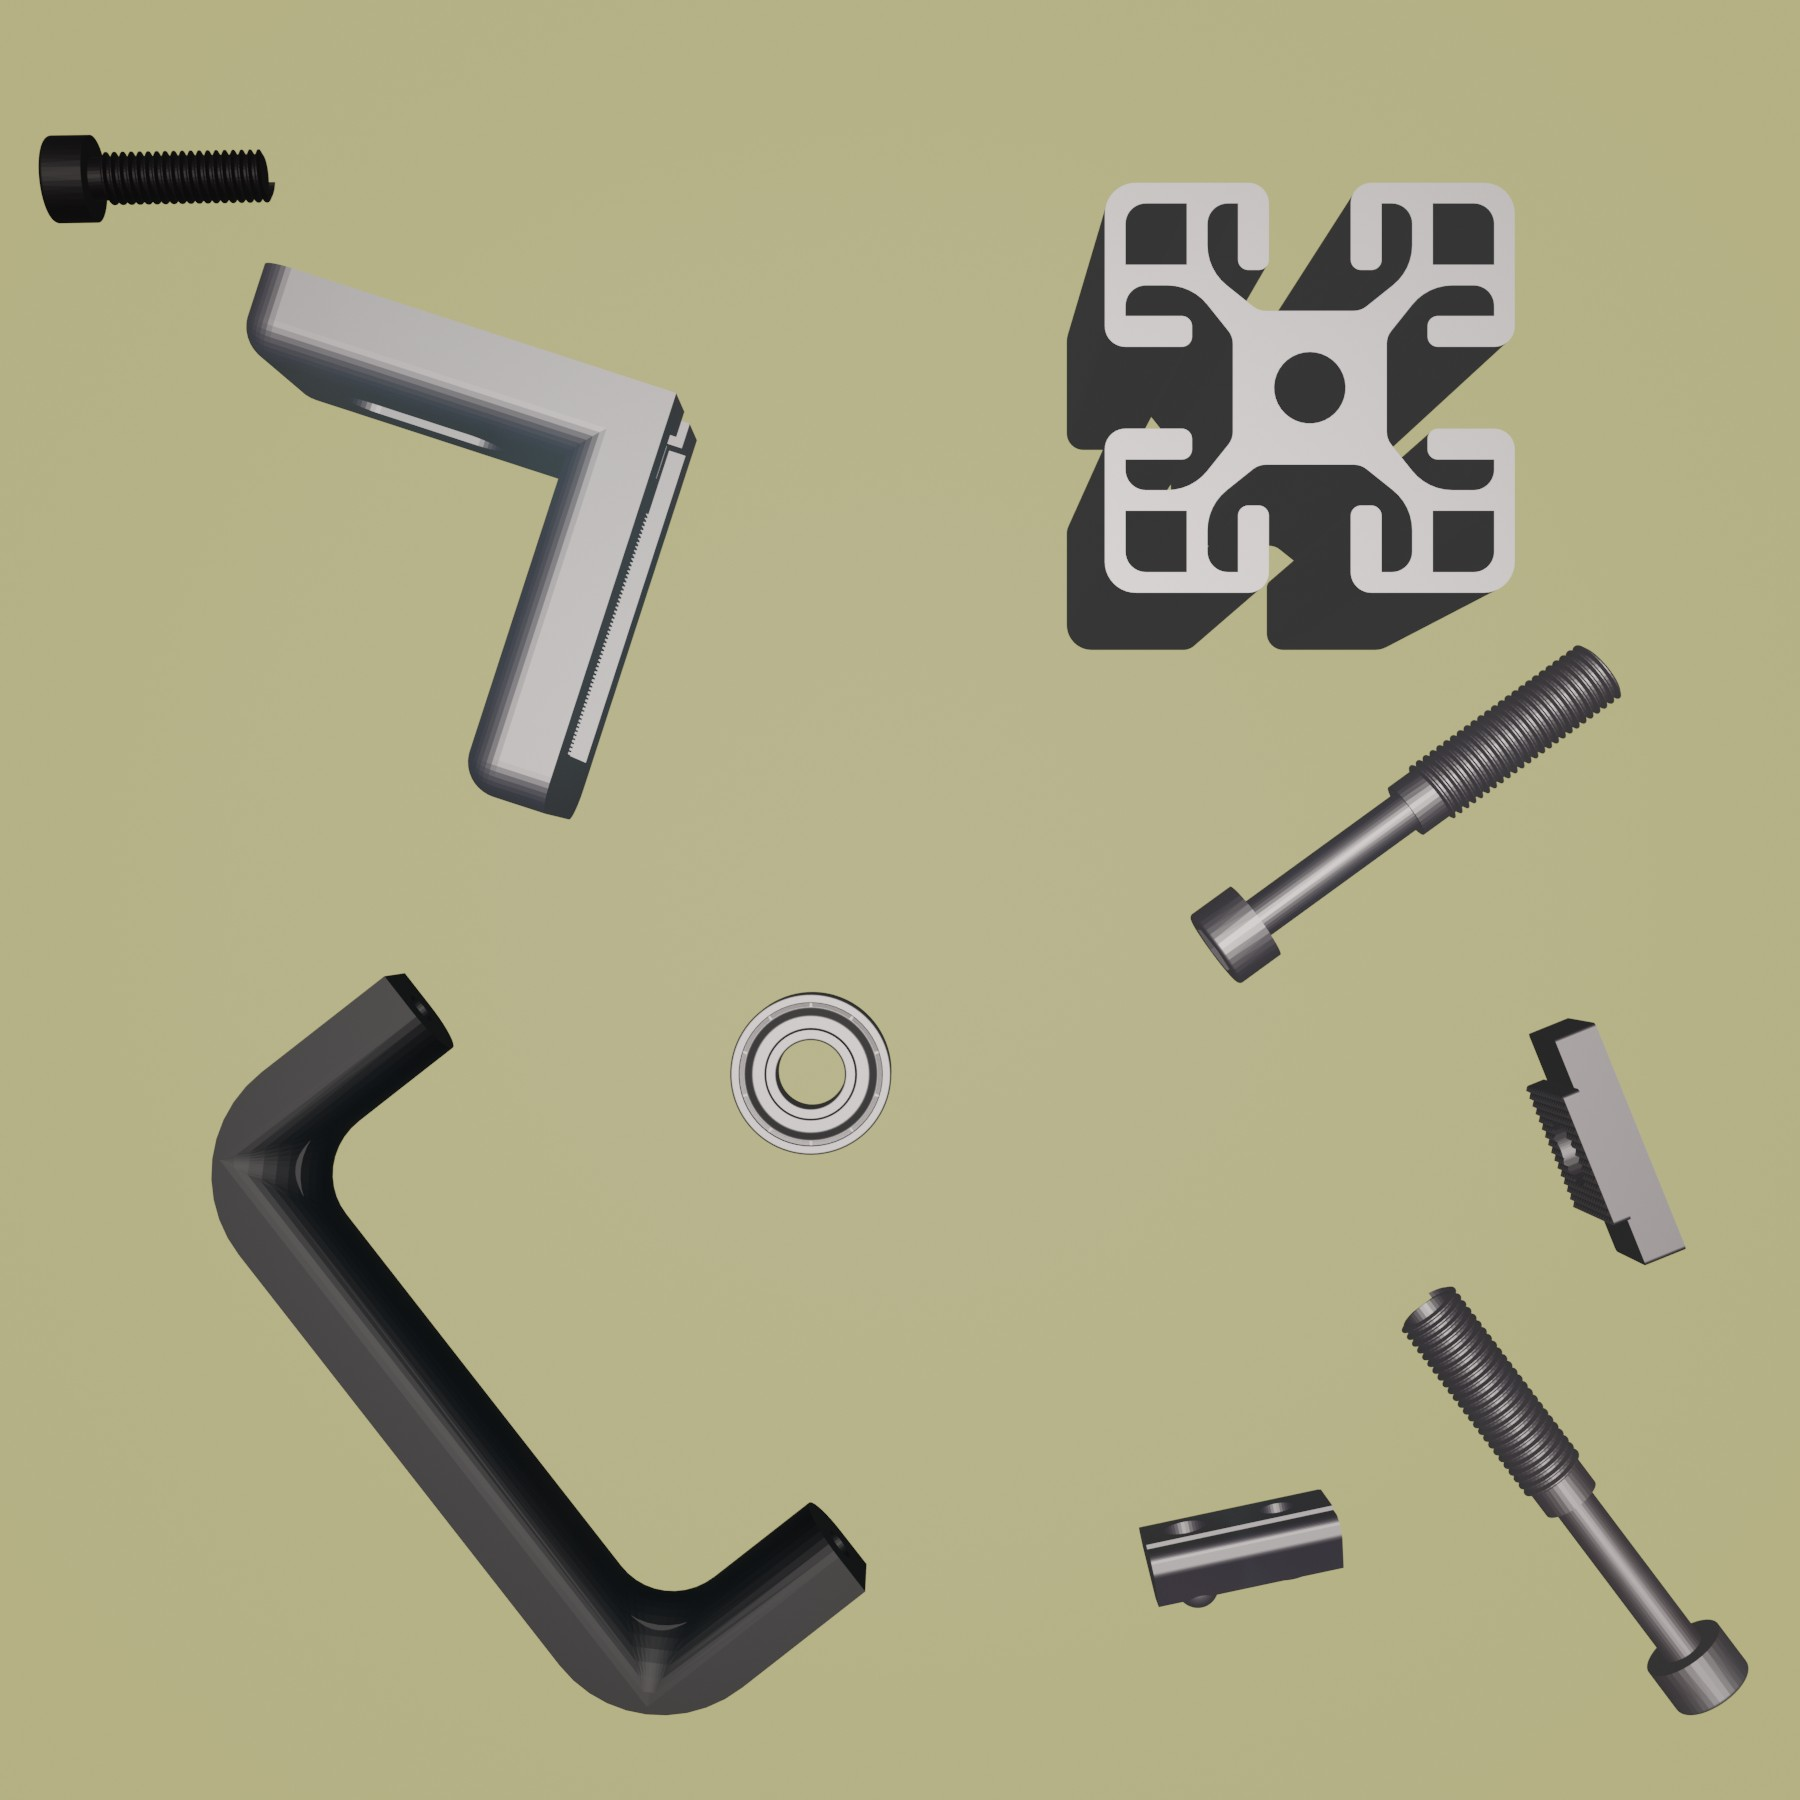Aluminium Extension: (1063, 180, 1520, 653)
Ball Bearing: (729, 987, 893, 1157)
Multiwinkel: (244, 259, 701, 823)
Pull Handle: (208, 969, 869, 1716)
Shoulder Socket Head Cap Screw: (1398, 1286, 1751, 1718), (1188, 641, 1624, 987)
Socket Head Cap Screw: (36, 130, 279, 226)
T Nut Square: (1525, 1014, 1690, 1269)
T Spring Nut: (1136, 1487, 1347, 1610)
